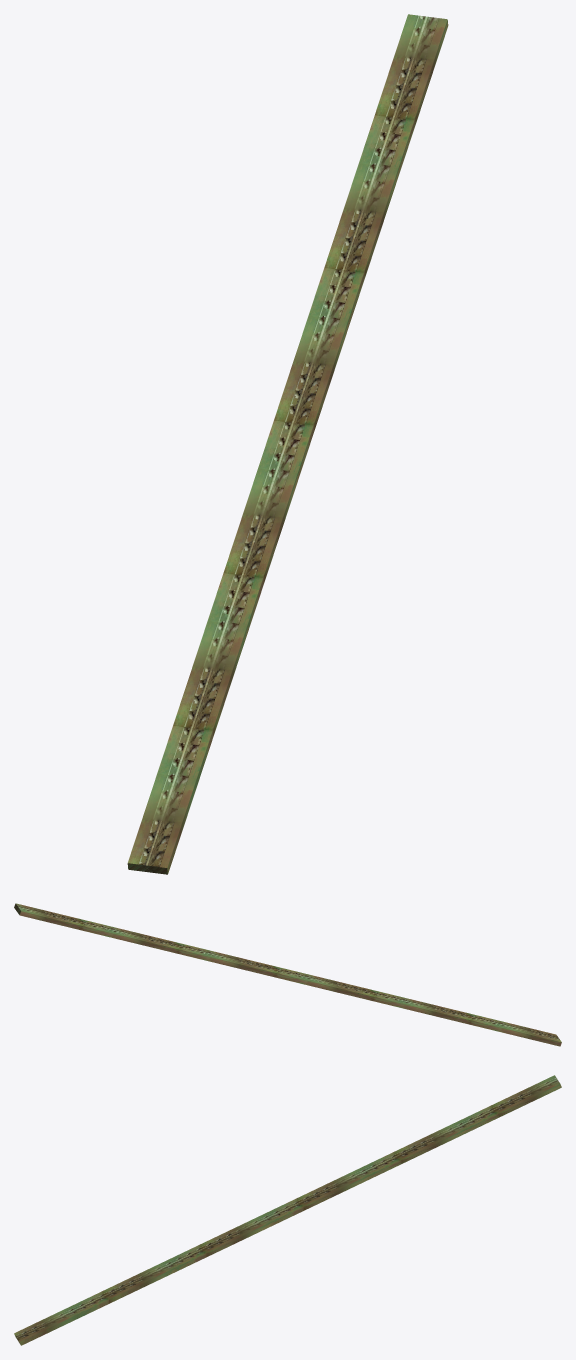
The model's file is GH_1_RoofT_5.gltf.
3 renders of one model, top to bottom at view 1: azimuth 30°, elevation 25°; view 2: azimuth 150°, elevation 25°; view 3: azimuth 330°, elevation 25°, orthographic. The views are drawn at different scales.
Visible parts, largest first — view 1: GH_1_RoofT_5; view 2: GH_1_RoofT_5; view 3: GH_1_RoofT_5.
Boxes of the visible parts, x1=… form: GH_1_RoofT_5: x1=127, y1=14, x2=448, y2=874; GH_1_RoofT_5: x1=14, y1=903, x2=561, y2=1046; GH_1_RoofT_5: x1=14, y1=1075, x2=561, y2=1345.
Size of the model in its own units: 3.58 by 1.92 by 3.64.
1 material, 1 textured.
